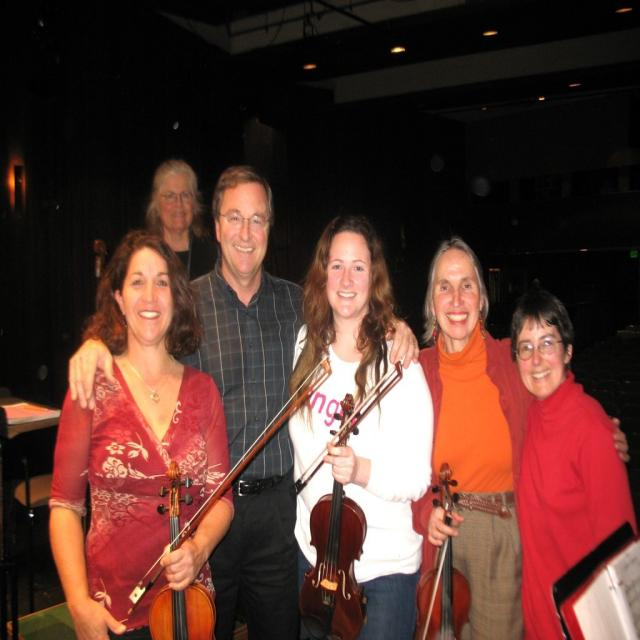violin: (300, 392, 373, 638), (143, 459, 218, 638), (412, 460, 472, 639)
